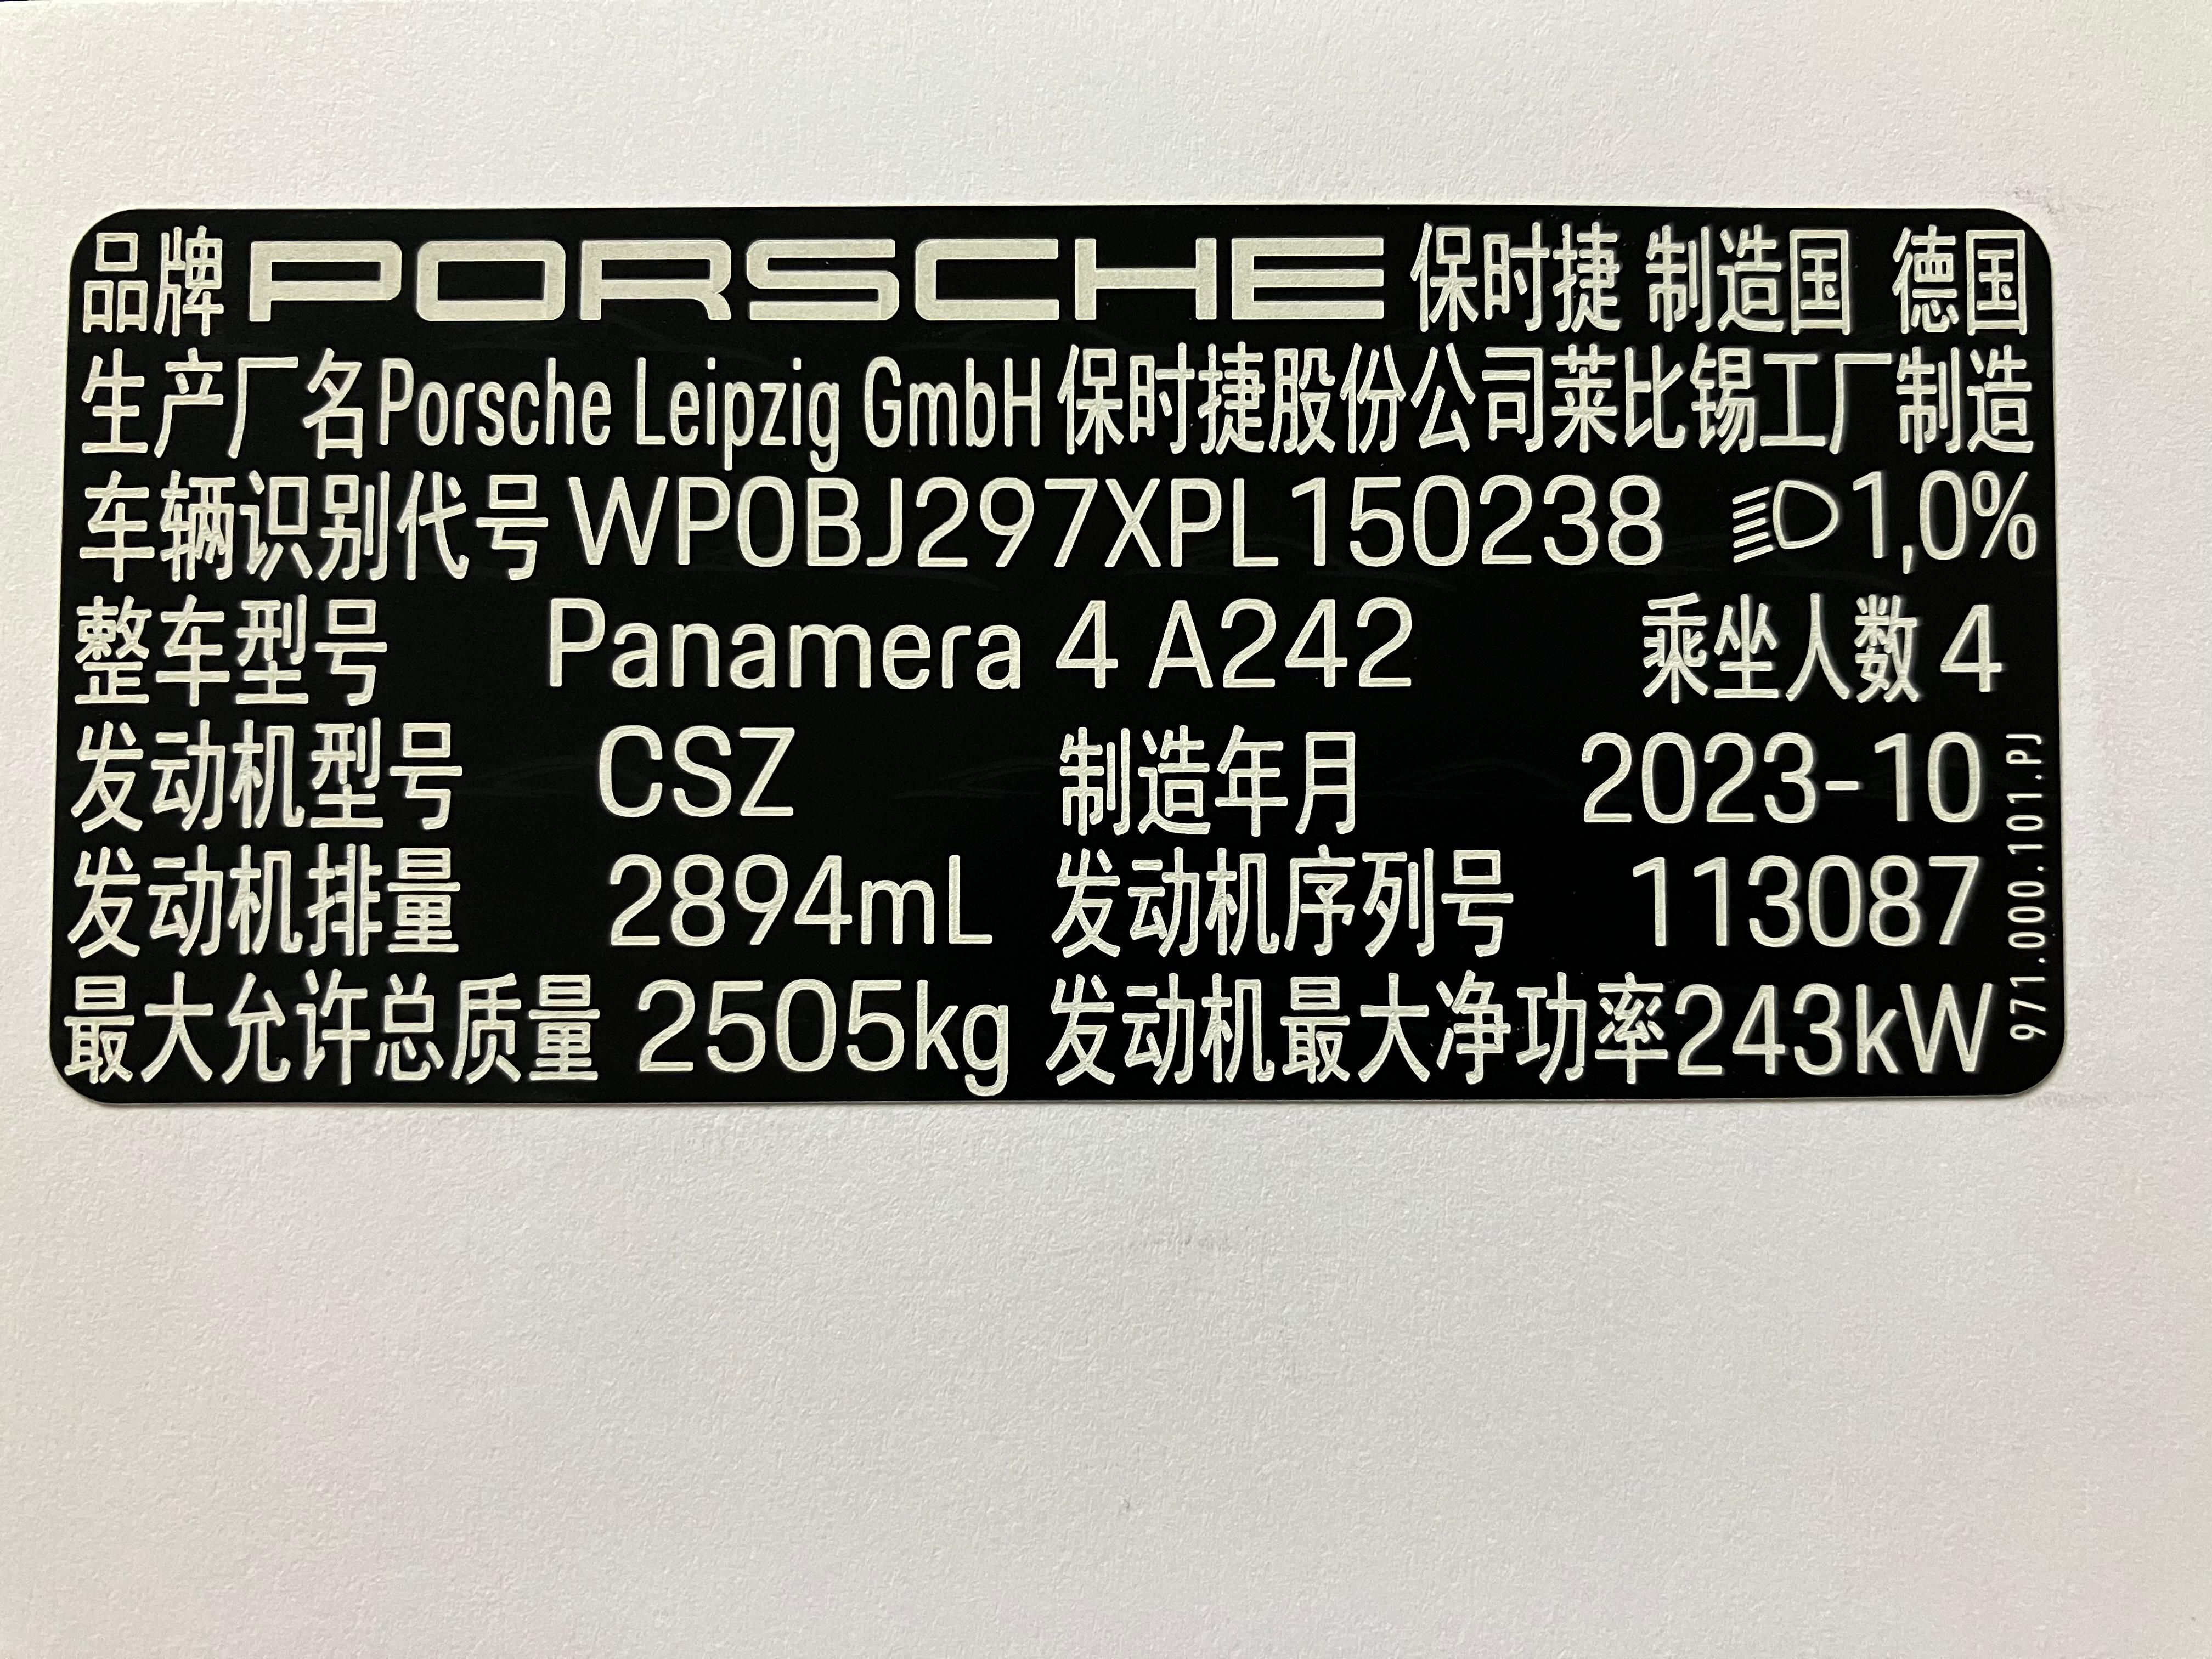Typlabel-China: (49, 206, 2064, 1103)
